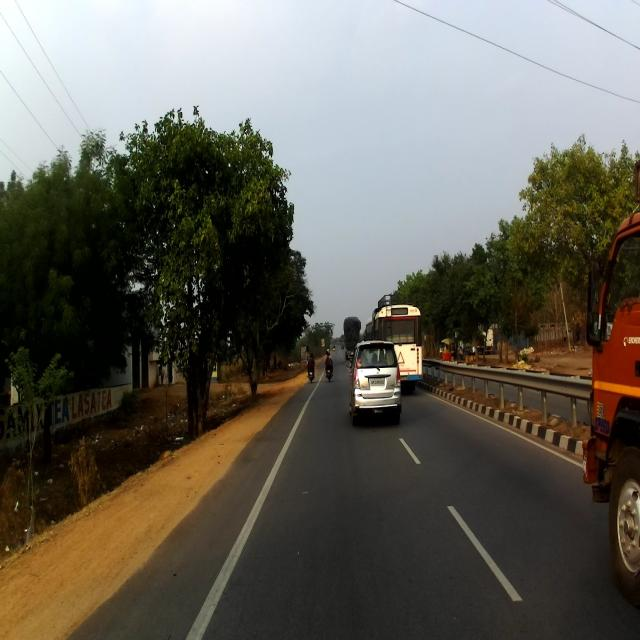Car_Toyota: (345, 338, 402, 426)
truck: (580, 143, 640, 584)
